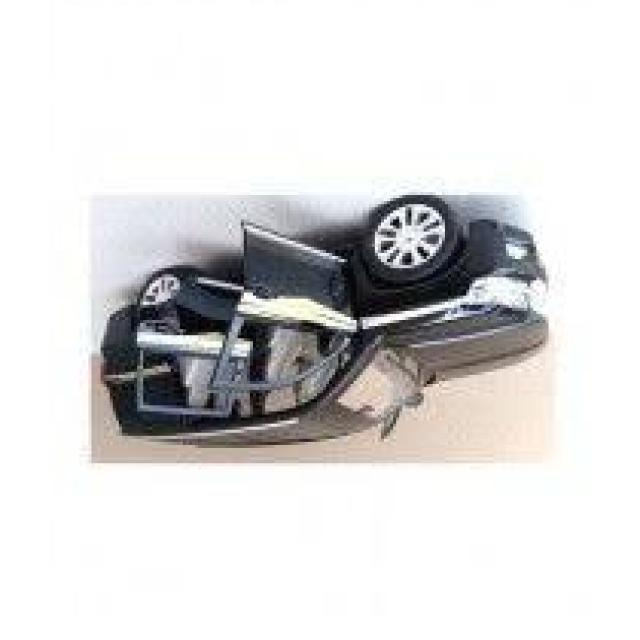Car: (100, 195, 552, 451)
